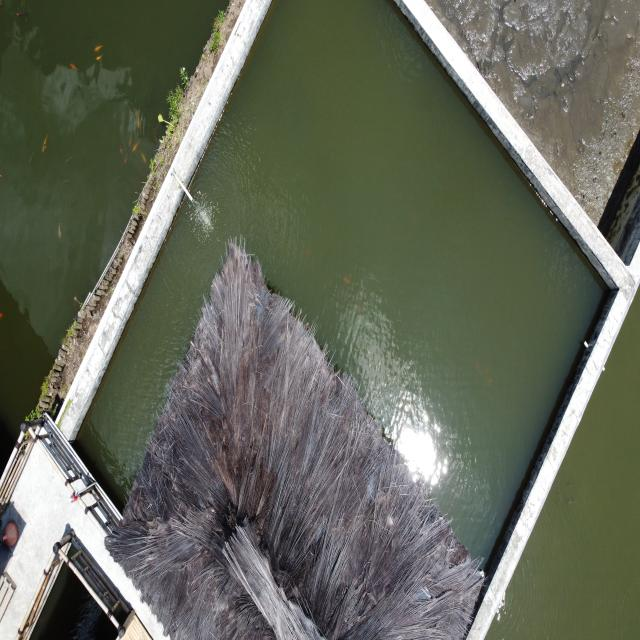Ponds: (66, 1, 631, 640), (1, 1, 243, 501), (476, 269, 640, 640)
